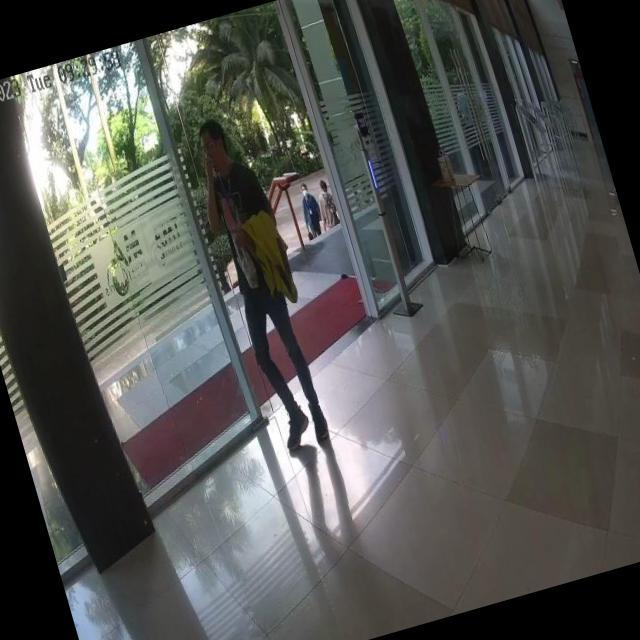person: (183, 110, 340, 456), (294, 180, 328, 242), (312, 178, 340, 230)
